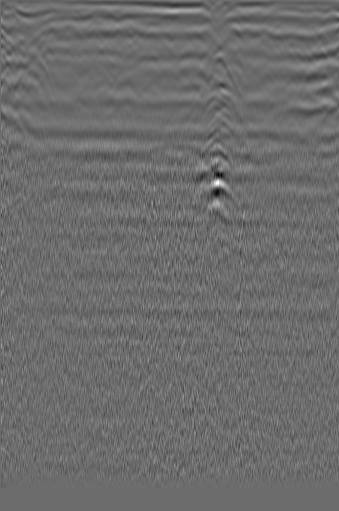가스: (195, 171, 237, 201)
상수: (8, 34, 39, 65)
오수: (278, 32, 312, 57)
우수: (146, 41, 181, 67)
